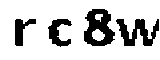8: (82, 6, 115, 50)
c: (47, 17, 77, 50)
r: (11, 16, 37, 47)
w: (115, 16, 160, 50)
